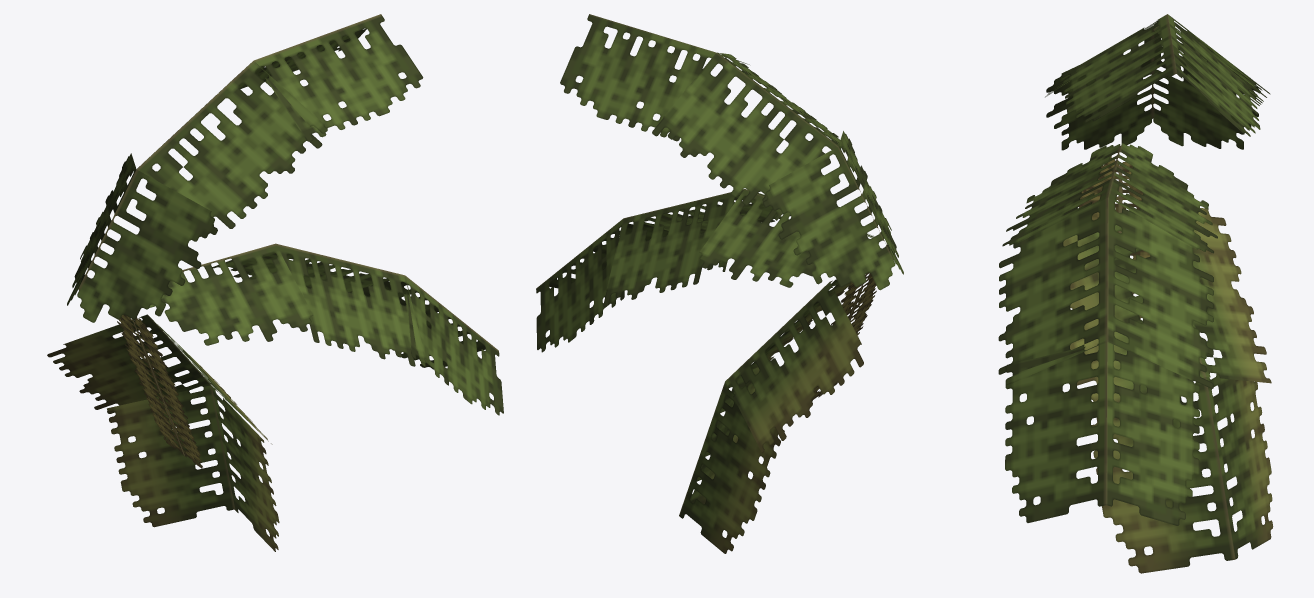
File: coconut_palm_straight_1.obj
3 views of the same model, side by side, from view 1: azimuth 30°, elevation 25°; view 2: azimuth 150°, elevation 25°; view 3: azimuth 270°, elevation 25° (orthographic). The views are drawn at different scales.
Visible parts, largest first — view 1: cube.232; view 2: cube.232; view 3: cube.232.
Part boxes in pixels (x1,y1,x2,y2): cube.232: (47, 14, 503, 551); cube.232: (536, 14, 903, 553); cube.232: (998, 14, 1273, 573).
Bounding box in the file's own units: 3.59 × 4.1 × 2.15.
